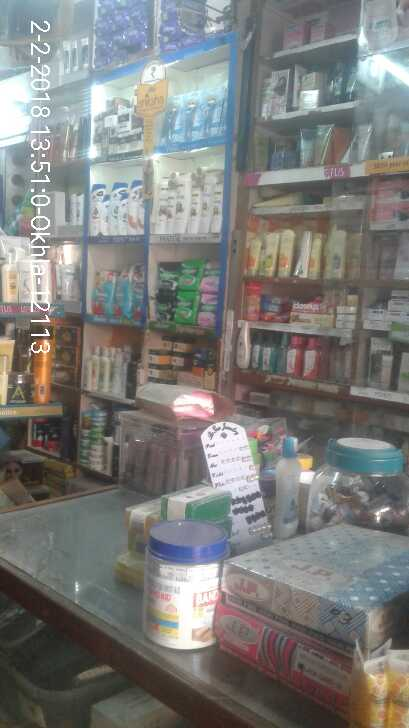gillete: (263, 334, 276, 370), (252, 335, 263, 370)
venus: (199, 88, 226, 137), (164, 94, 182, 141), (182, 94, 199, 137)
